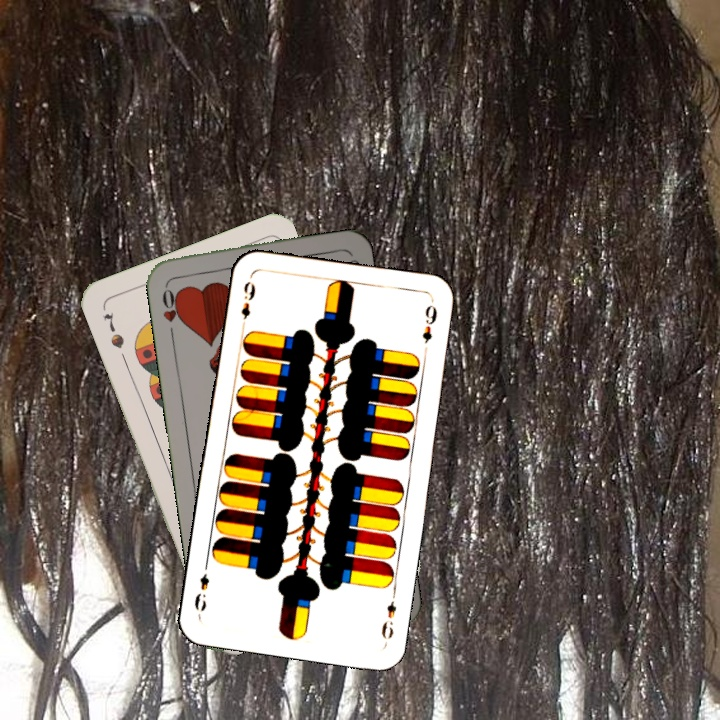E9: (237, 277, 258, 331), (377, 597, 399, 646)
HO: (158, 280, 186, 339)
S7: (99, 308, 127, 351)
